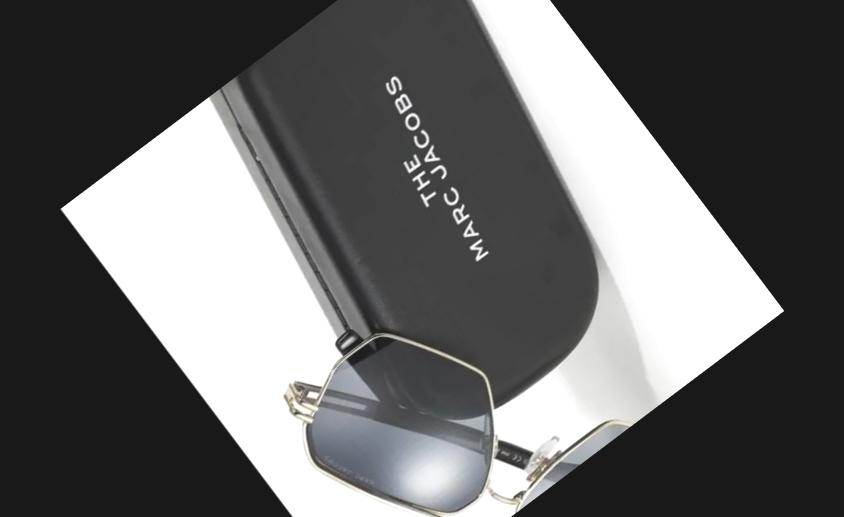MARC-JACOBS: (354, 71, 516, 261)
